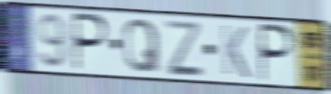9: (36, 12, 69, 71)
K: (219, 23, 252, 81)
P: (258, 21, 297, 85), (72, 11, 111, 74)
Q: (122, 17, 162, 75)
Z: (162, 17, 206, 77)
